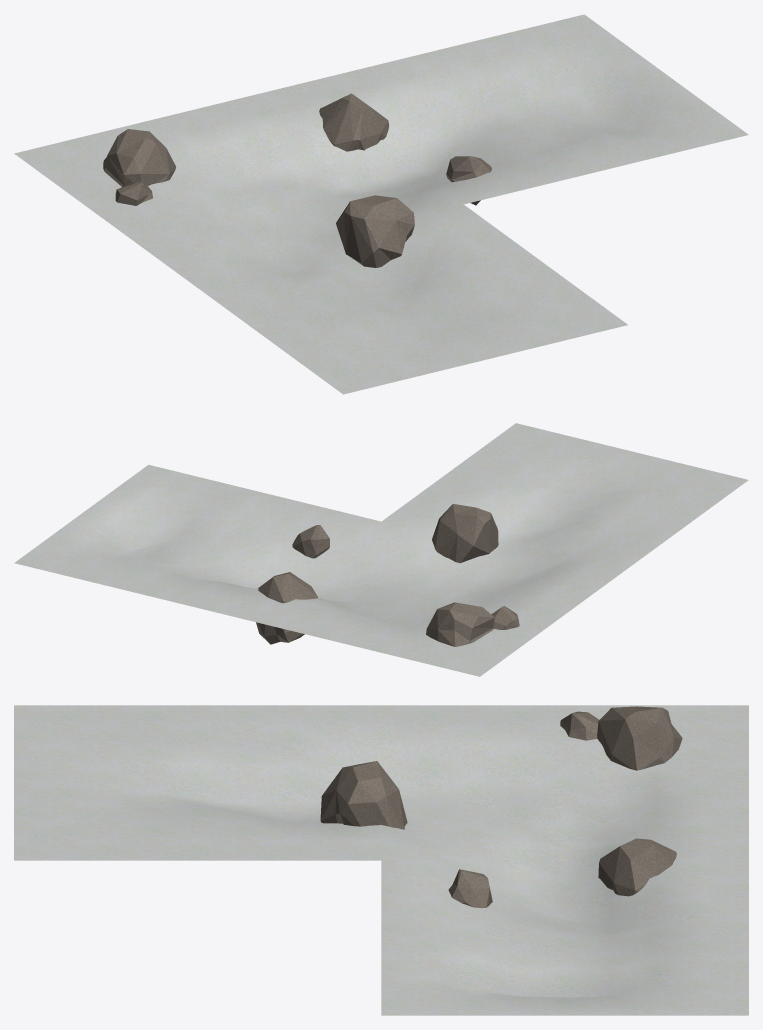
File: corner_1.obj
3 views of the same model, one above another, from view 1: azimuth 30°, elevation 25°; view 2: azimuth 150°, elevation 25°; view 3: azimuth 270°, elevation 25° (orthographic). The views are drawn at different scales.
Visible parts, largest first — view 1: corner_1_Cube.007; view 2: corner_1_Cube.007; view 3: corner_1_Cube.007.
Part boxes in pixels (x1,y1,x2,y2): corner_1_Cube.007: (14, 14, 748, 394); corner_1_Cube.007: (14, 423, 748, 676); corner_1_Cube.007: (14, 705, 748, 1015).
Size of the model in its own units: 1024 by 156 by 1024.
